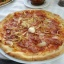pizza: (2, 10, 64, 64)
